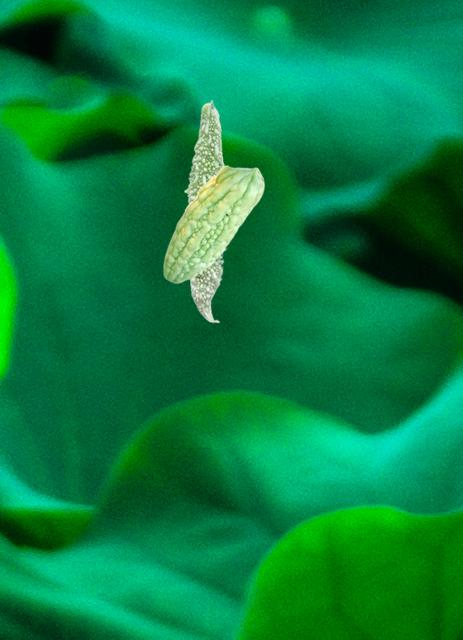ampalaya: (161, 163, 265, 284), (181, 97, 227, 324)
